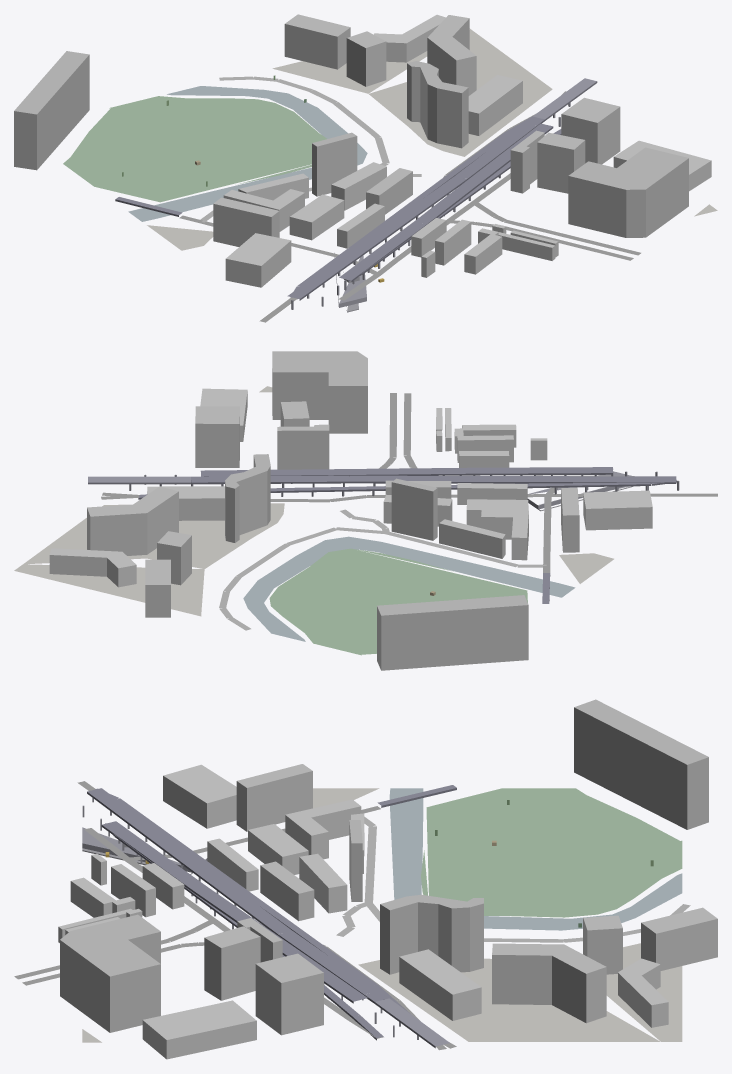
3 views of the same model, one above another, from view 1: azimuth 30°, elevation 25°; view 2: azimuth 150°, elevation 25°; view 3: azimuth 270°, elevation 25° (orthographic). The views are drawn at different scales.
Bounding box in the file's own units: 579 × 73.74 × 587.
